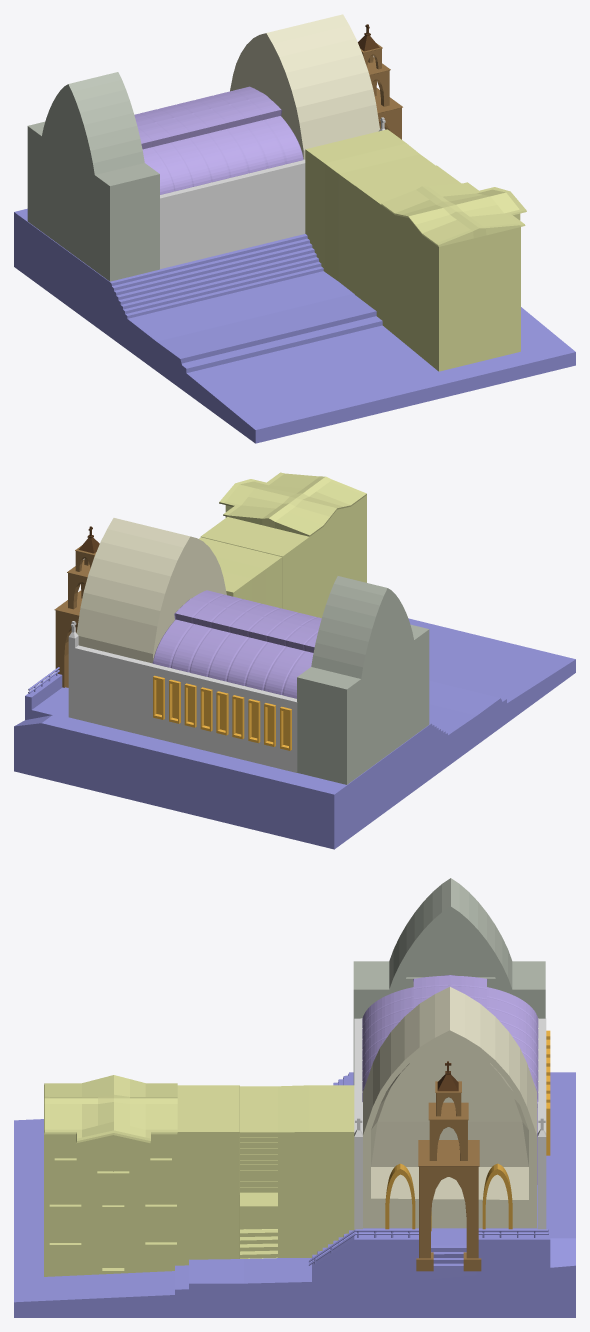
File: Iglesia.glb
3 views of the same model, one above another, from view 1: azimuth 30°, elevation 25°; view 2: azimuth 150°, elevation 25°; view 3: azimuth 270°, elevation 25° (orthographic). The views are drawn at different scales.
Parts seen in each view (by area): view 1: Cube.003; view 2: Cube.003; view 3: Cube.003.
Boxes of the visible parts, x1,y1,x2,y2 form: Cube.003: (14, 14, 575, 443); Cube.003: (14, 472, 575, 849); Cube.003: (14, 878, 575, 1317).
Bounding box in the file's own units: 102 × 67.77 × 132.
